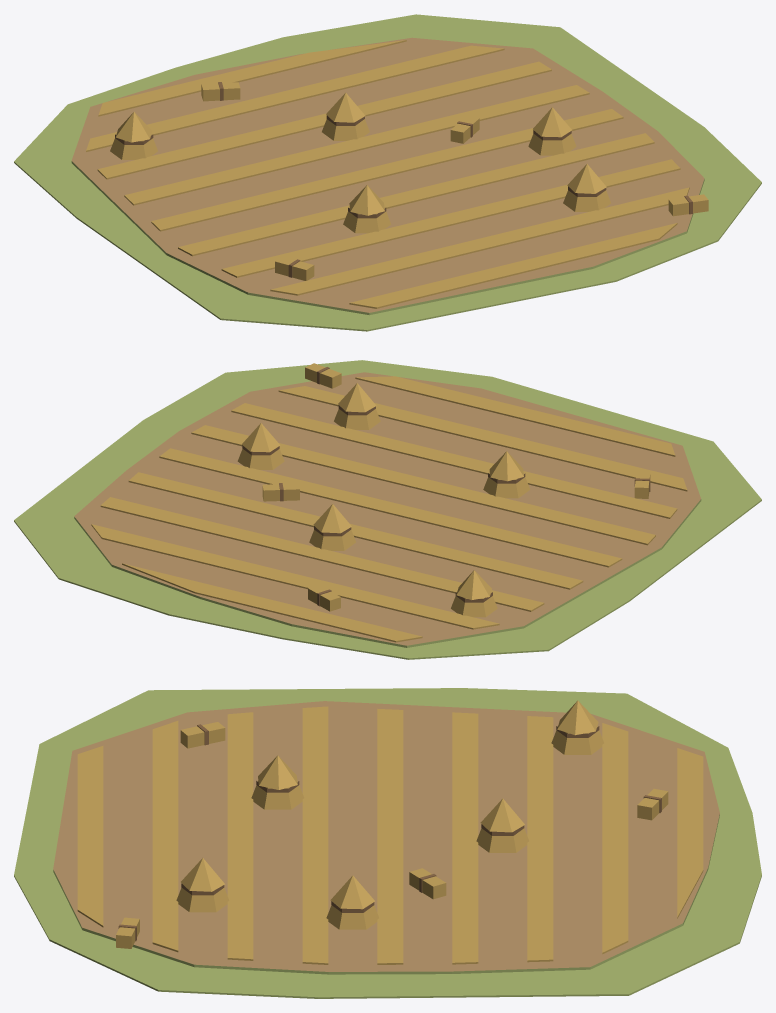
Rendered from field-stubble.glb.
The picture shows the model from 3 angles, top to bottom: view 1: azimuth 30°, elevation 25°; view 2: azimuth 150°, elevation 25°; view 3: azimuth 270°, elevation 25°; orthographic projection. The views are drawn at different scales.
Parts seen in each view (by area): view 1: field-stubble; view 2: field-stubble; view 3: field-stubble.
Part boxes in pixels (left/top/right/bottom): field-stubble: left=14, top=14, right=761, bottom=331; field-stubble: left=14, top=360, right=761, bottom=659; field-stubble: left=14, top=688, right=761, bottom=998.
Size of the model in its own units: 15.61 by 1.15 by 15.96.
Materials: 1 (1 with a texture image).
